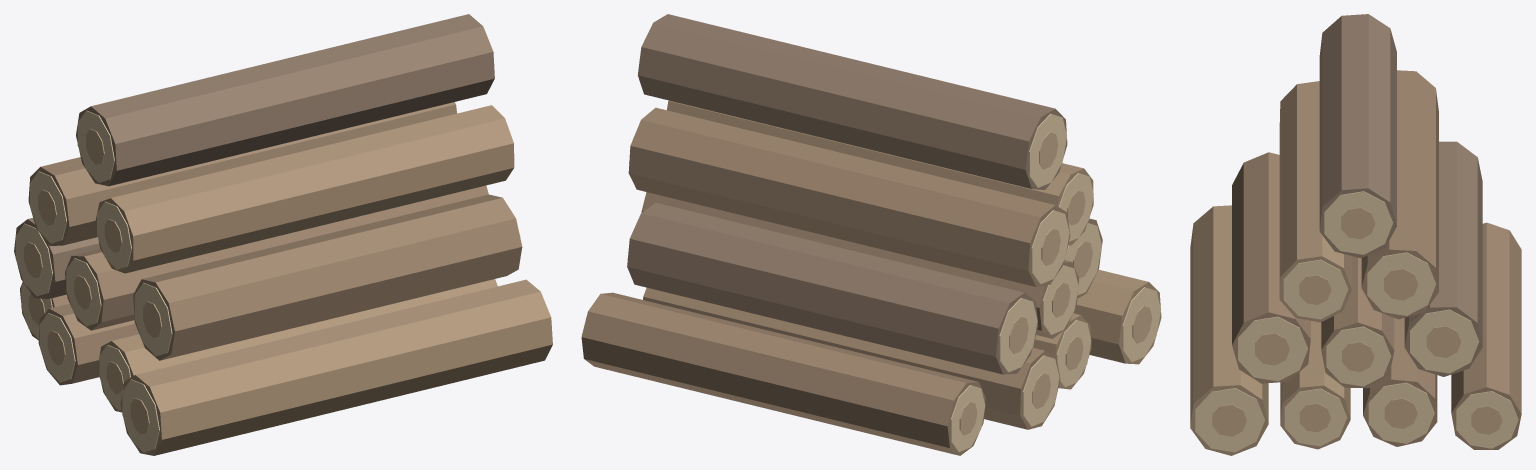
Rendered from g_woodpile.glb.
3 views of the same model, side by side, from view 1: azimuth 30°, elevation 25°; view 2: azimuth 150°, elevation 25°; view 3: azimuth 270°, elevation 25° (orthographic). The views are drawn at different scales.
Parts seen in each view (by area): view 1: p15, p45, p40, p30, p35, p25, p10, p5, p20, p31, p16, p21 (+8 smaller); view 2: p35, p45, p20, p0, p5, p40, p25, p15, p16, p21, p36, p46 (+7 smaller); view 3: p45, p15, p30, p35, p40, p20, p0, p25, p33, p18, p23, p48 (+18 smaller).
Part boxes in pixels (box(x1,y1,x2,y2)): p15: box(120, 279, 552, 455); p45: box(76, 14, 494, 186); p40: box(95, 105, 514, 273); p30: box(133, 194, 522, 360); p35: box(28, 102, 456, 245); p25: box(65, 185, 488, 330); p10: box(97, 279, 497, 412); p5: box(38, 303, 139, 385); p20: box(14, 218, 99, 298); p31: box(134, 282, 172, 356); p16: box(122, 379, 159, 452); p21: box(15, 223, 52, 296); p35: box(628, 107, 1070, 286); p45: box(638, 14, 1067, 189); p20: box(627, 202, 1038, 374); p0: box(581, 292, 985, 455); p5: box(643, 287, 1060, 429); p40: box(667, 100, 1093, 245); p25: box(641, 192, 1079, 338); p15: box(1073, 270, 1161, 364); p16: box(1122, 287, 1160, 362); p21: box(999, 298, 1037, 372); p36: box(1031, 210, 1069, 284); p46: box(1029, 113, 1066, 187); p45: box(1319, 14, 1396, 258); p15: box(1190, 205, 1268, 455); p30: box(1232, 152, 1310, 383); p35: box(1361, 70, 1438, 319); p40: box(1279, 81, 1351, 322); p20: box(1404, 141, 1482, 376); p0: box(1451, 222, 1521, 449); p25: box(1321, 256, 1394, 387); p33: box(1238, 316, 1307, 381); p18: box(1195, 388, 1264, 452); p23: box(1410, 309, 1479, 373); p48: box(1324, 191, 1392, 254).
Size of the model in its own units: 0.5179 by 0.3505 by 0.3863.
